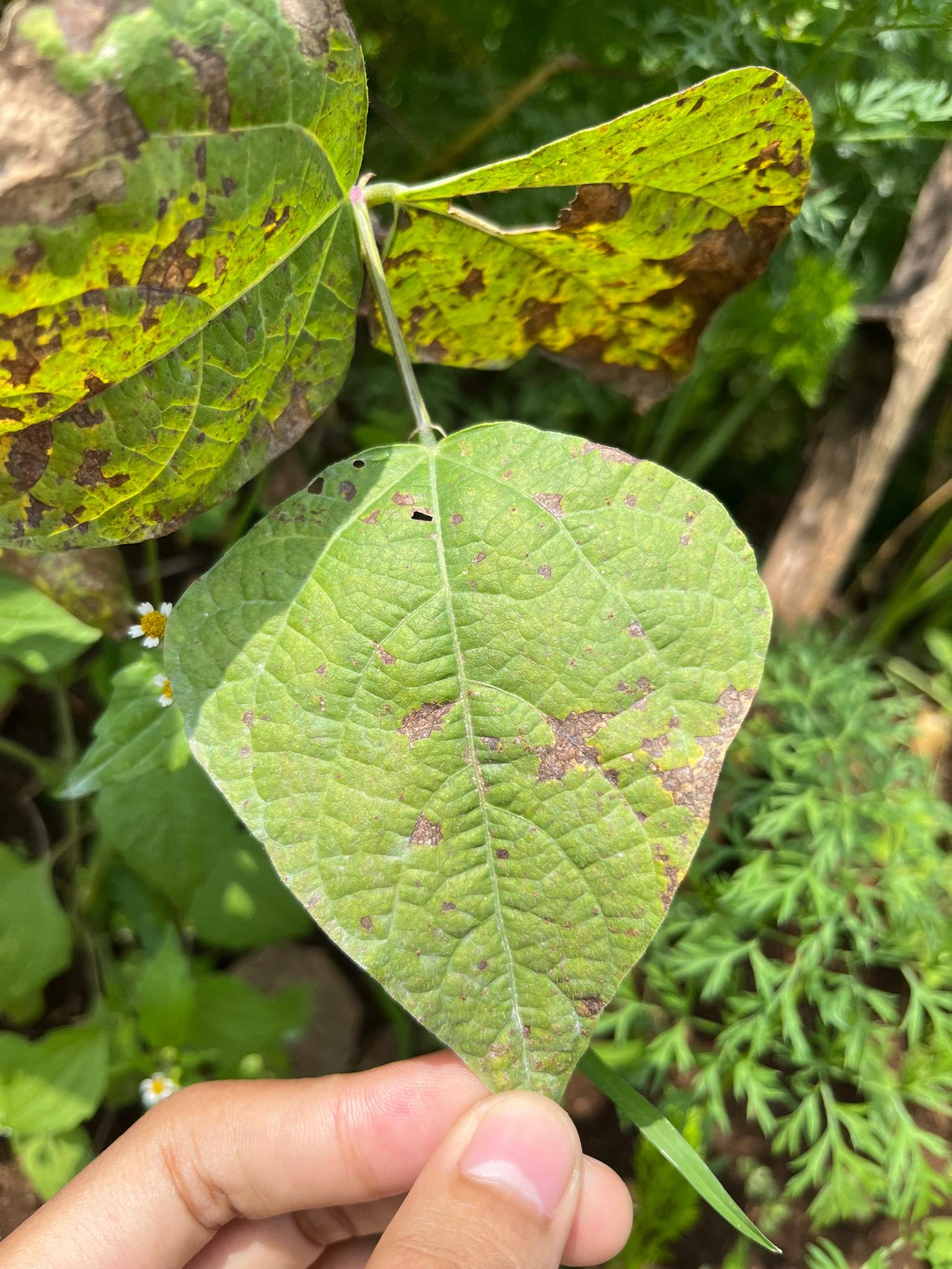hawar: (6, 5, 357, 564), (474, 644, 770, 912), (588, 119, 808, 385)
mozaik: (403, 161, 611, 276)
